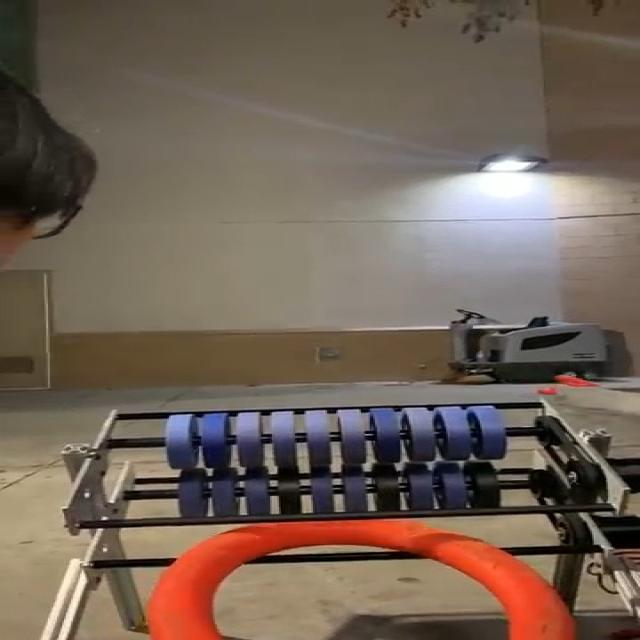note: (141, 514, 581, 640), (558, 374, 599, 394)
